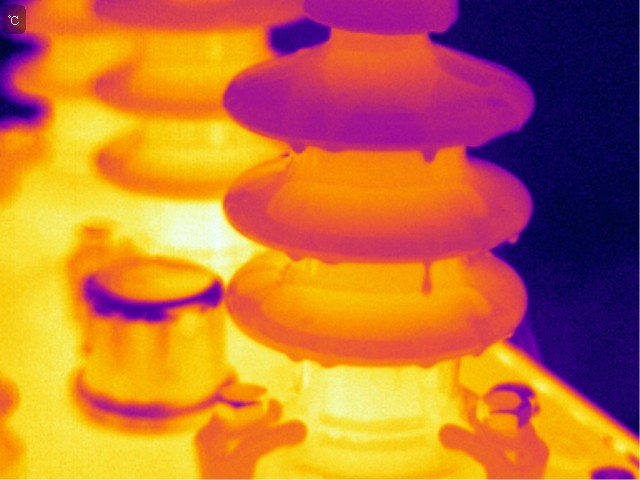Oil: (460, 331, 492, 365), (420, 257, 436, 297), (287, 134, 310, 154), (294, 38, 313, 62), (417, 146, 438, 163), (287, 248, 308, 264), (415, 359, 444, 370), (316, 359, 342, 370), (286, 348, 304, 363), (430, 24, 451, 36), (507, 231, 521, 246)
